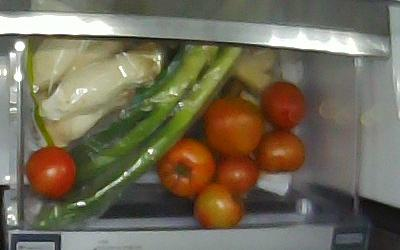tomato: (155, 137, 216, 197), (205, 96, 262, 157), (27, 146, 77, 199), (255, 130, 306, 174), (194, 182, 243, 227), (260, 81, 305, 129), (214, 155, 259, 193)
